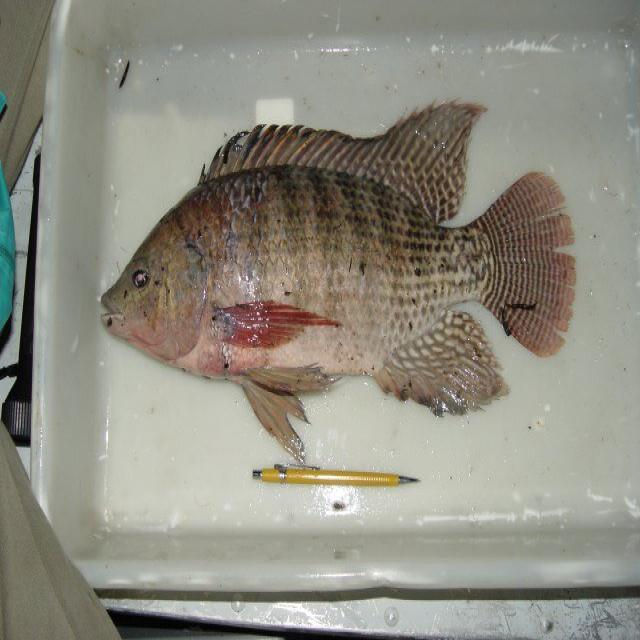ikan: (93, 76, 607, 457)
